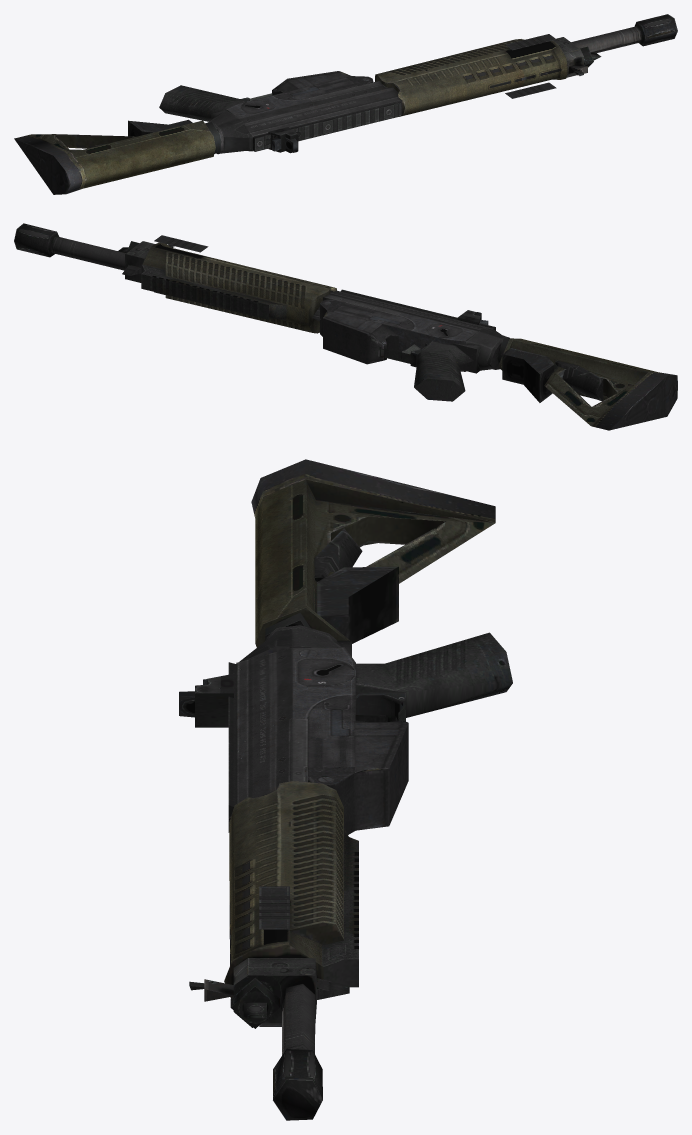
The model's file is t6_wpn_ar_sig556_world_LOD1.obj.
3 renders of one model, top to bottom at view 1: azimuth 30°, elevation 25°; view 2: azimuth 150°, elevation 25°; view 3: azimuth 270°, elevation 25°, orthographic. The views are drawn at different scales.
Visible parts, largest first — view 1: mtl_t6_wpn_ar_sig556_camo1, mtl_t6_wpn_ar_sig556_camo3, mtl_t6_wpn_ar_sig556_camo2; view 2: mtl_t6_wpn_ar_sig556_camo1, mtl_t6_wpn_ar_sig556_camo3, mtl_t6_wpn_ar_sig556_camo2; view 3: mtl_t6_wpn_ar_sig556_camo1, mtl_t6_wpn_ar_sig556_camo3, mtl_t6_wpn_ar_sig556_camo2.
Part boxes in pixels (bbox=[...]): mtl_t6_wpn_ar_sig556_camo1: bbox=[14, 26, 641, 194]; mtl_t6_wpn_ar_sig556_camo3: bbox=[31, 14, 677, 153]; mtl_t6_wpn_ar_sig556_camo2: bbox=[217, 84, 401, 153]; mtl_t6_wpn_ar_sig556_camo1: bbox=[52, 237, 677, 430]; mtl_t6_wpn_ar_sig556_camo3: bbox=[14, 223, 636, 425]; mtl_t6_wpn_ar_sig556_camo2: bbox=[328, 290, 505, 338]; mtl_t6_wpn_ar_sig556_camo1: bbox=[179, 459, 512, 1055]; mtl_t6_wpn_ar_sig556_camo3: bbox=[229, 500, 495, 1120]; mtl_t6_wpn_ar_sig556_camo2: bbox=[236, 629, 292, 803].
Size of the model in its own units: 103 by 7.74 by 24.12.
